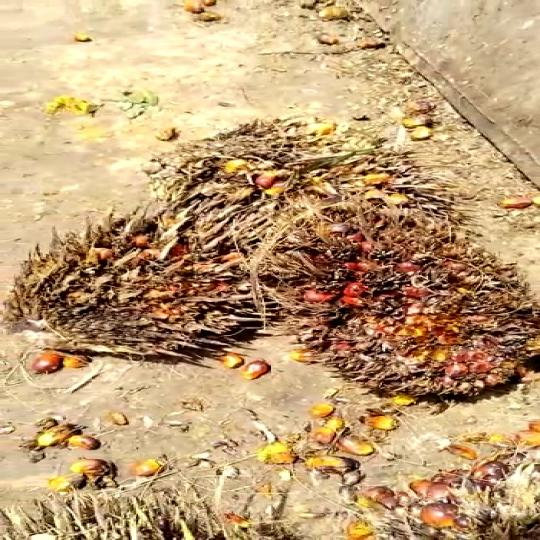terlalu masak: (264, 198, 540, 411), (134, 108, 493, 244), (0, 195, 282, 368)
